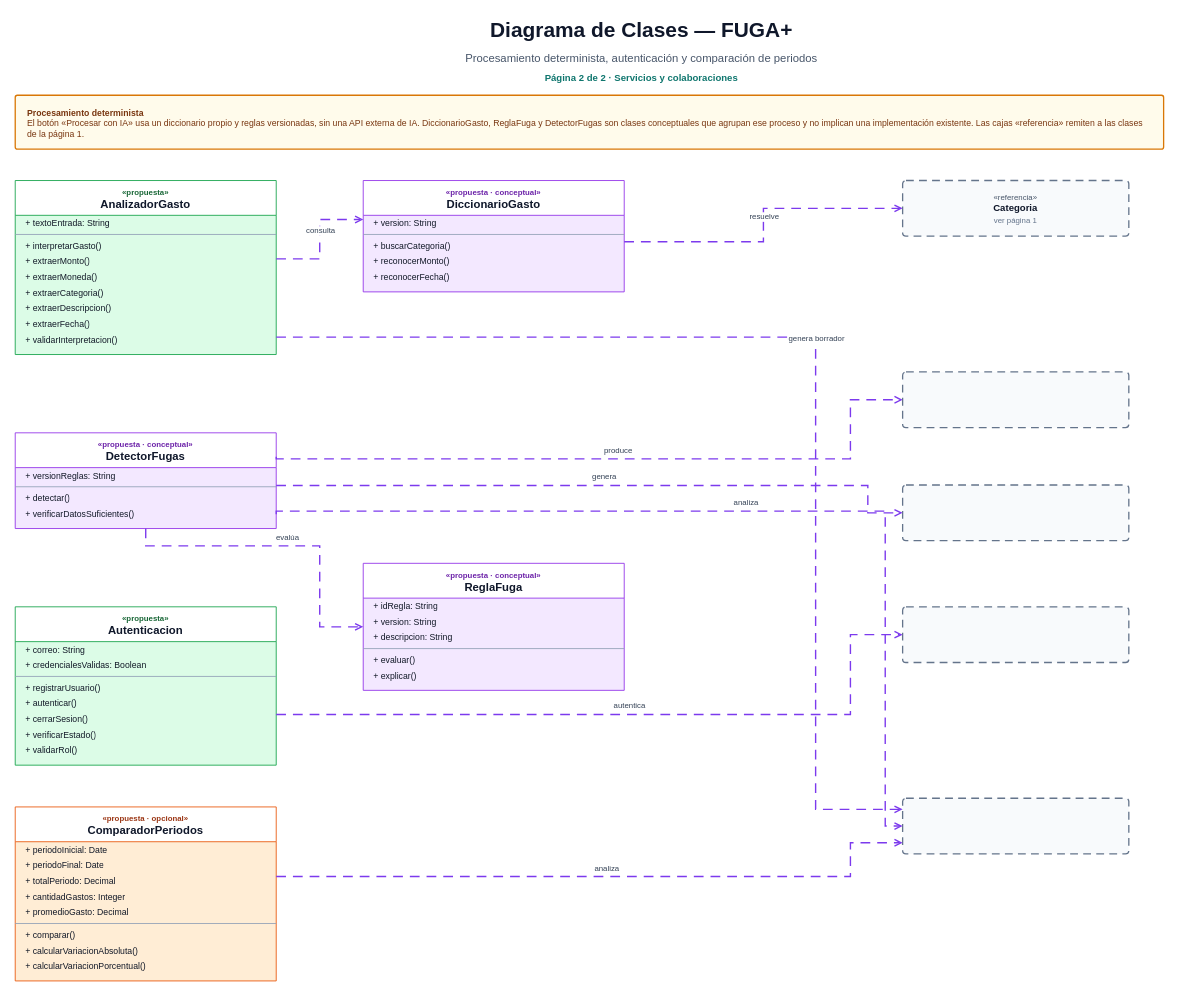
Image size: 1180x996. Some labels were removed from this diagram. Each missing label, with the centre of its shape:
"«referencia» Alerta ver página 1" belongs at [1015,512].
"«referencia» Gasto ver página 1" belongs at [1015,825].
"«referencia» PosibleFuga ver página 1" belongs at [1015,399].
"«referencia» Usuario ver página 1" belongs at [1015,634].
